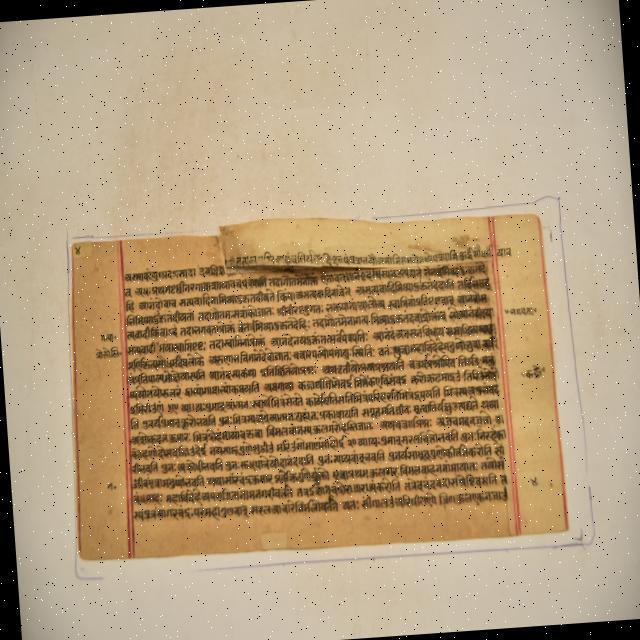text_paragraph: (73, 211, 563, 553)
